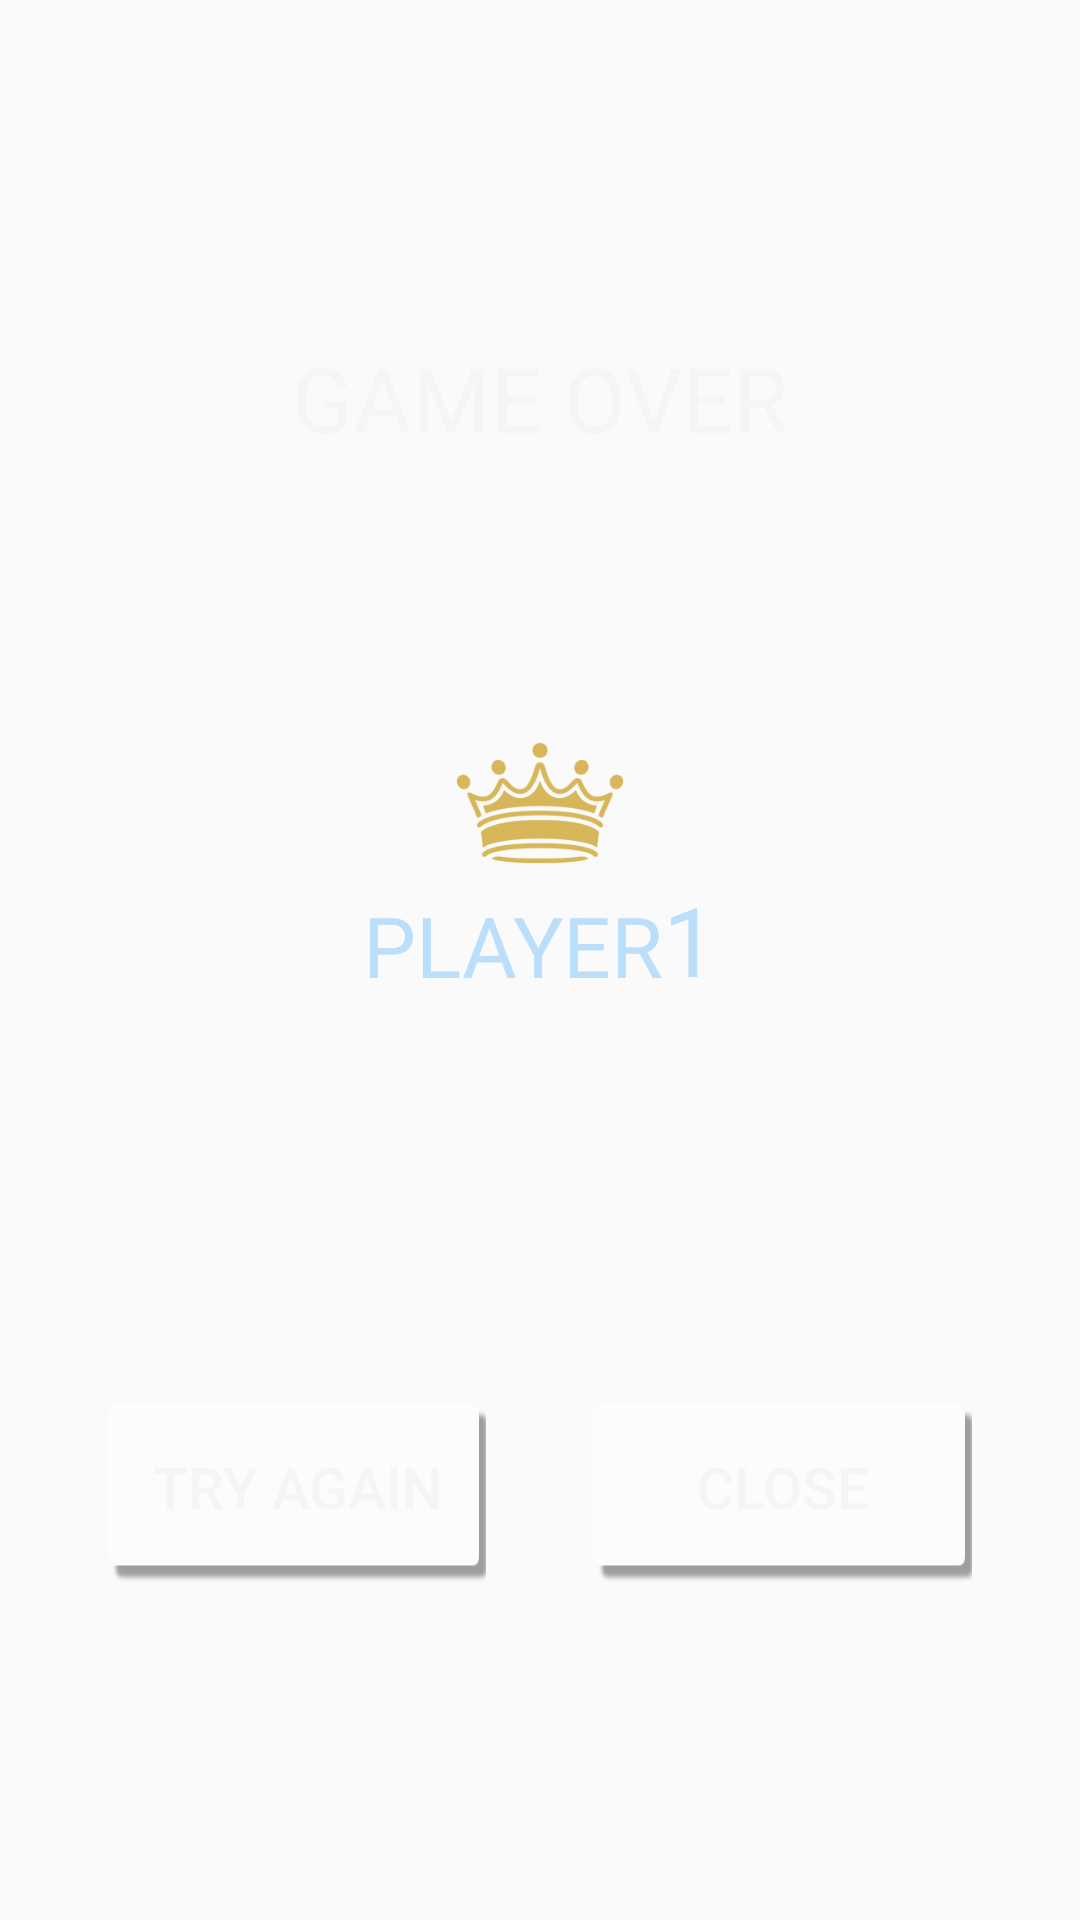

Where to tap for icons on this 1080x1920 app screen, as (x,y):
crown: (540,803)
